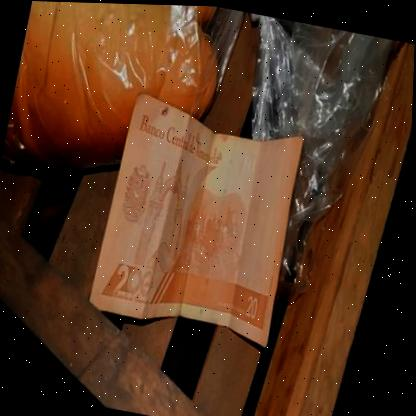twenty-back-vef: (87, 91, 311, 347)
